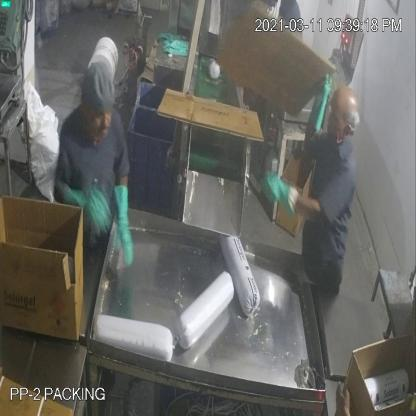glove: (114, 172, 141, 269), (304, 64, 338, 138), (258, 166, 290, 210)
